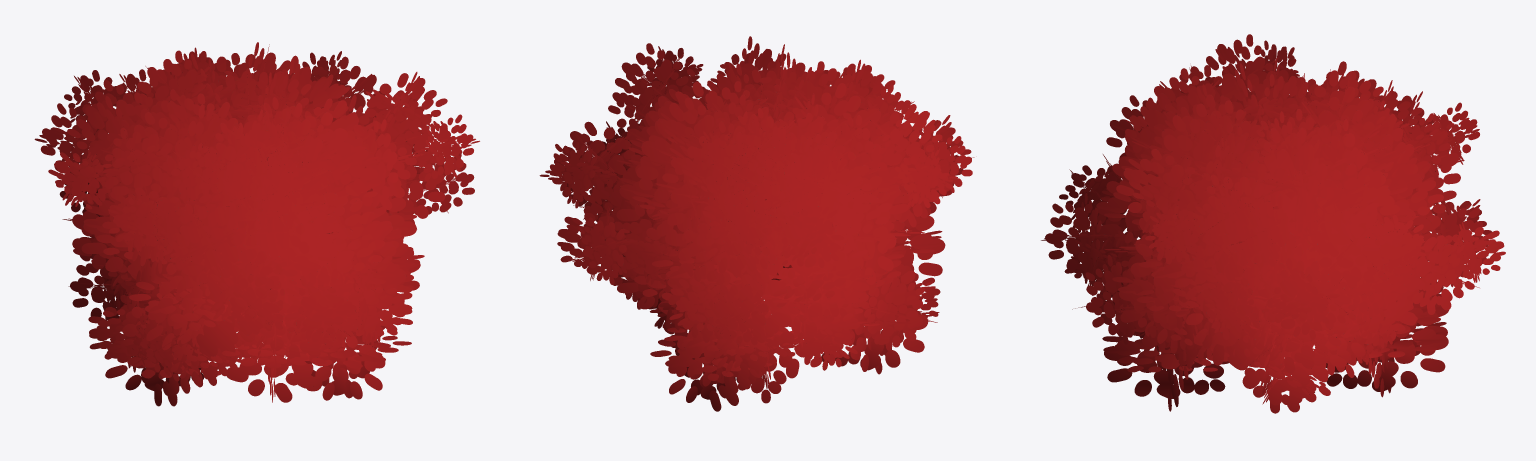
File: Bush_Common.gltf
3 views of the same model, side by side, from view 1: azimuth 30°, elevation 25°; view 2: azimuth 150°, elevation 25°; view 3: azimuth 270°, elevation 25° (orthographic). The views are drawn at different scales.
Parts seen in each view (by area): view 1: Bush_Common; view 2: Bush_Common; view 3: Bush_Common.
Part boxes in pixels (left/top/right/bottom): Bush_Common: left=34, top=42, right=479, bottom=406; Bush_Common: left=539, top=36, right=974, bottom=411; Bush_Common: left=1041, top=34, right=1505, bottom=413.
Bounding box in the file's own units: 1.91 × 1.58 × 1.97.
1 material, 1 textured.
